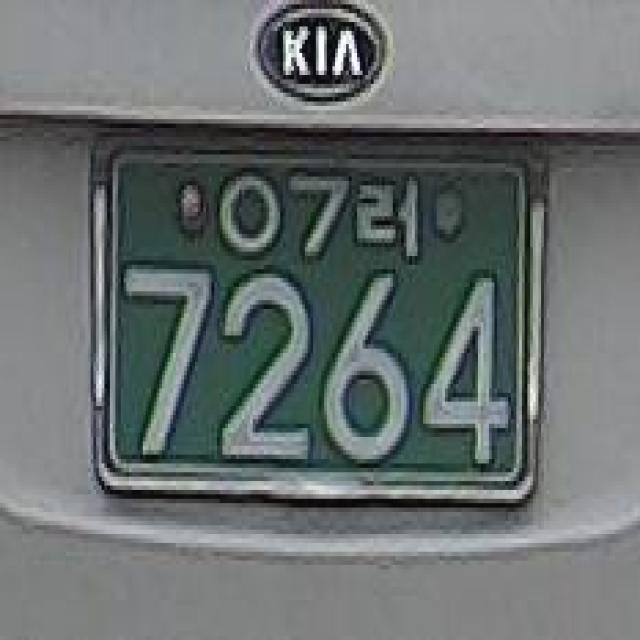illegal_plate: (74, 117, 554, 532)
